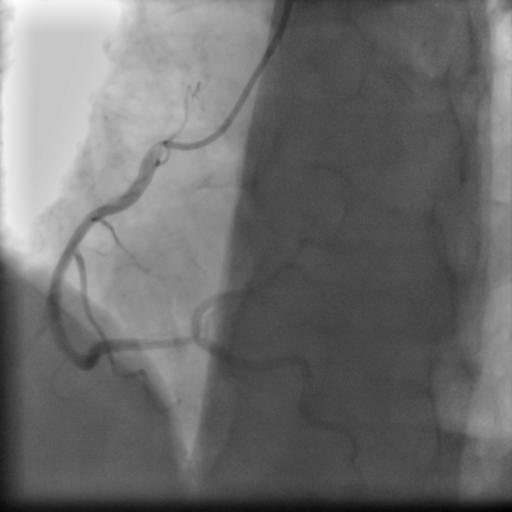Stenosis: (144, 330, 197, 349)
